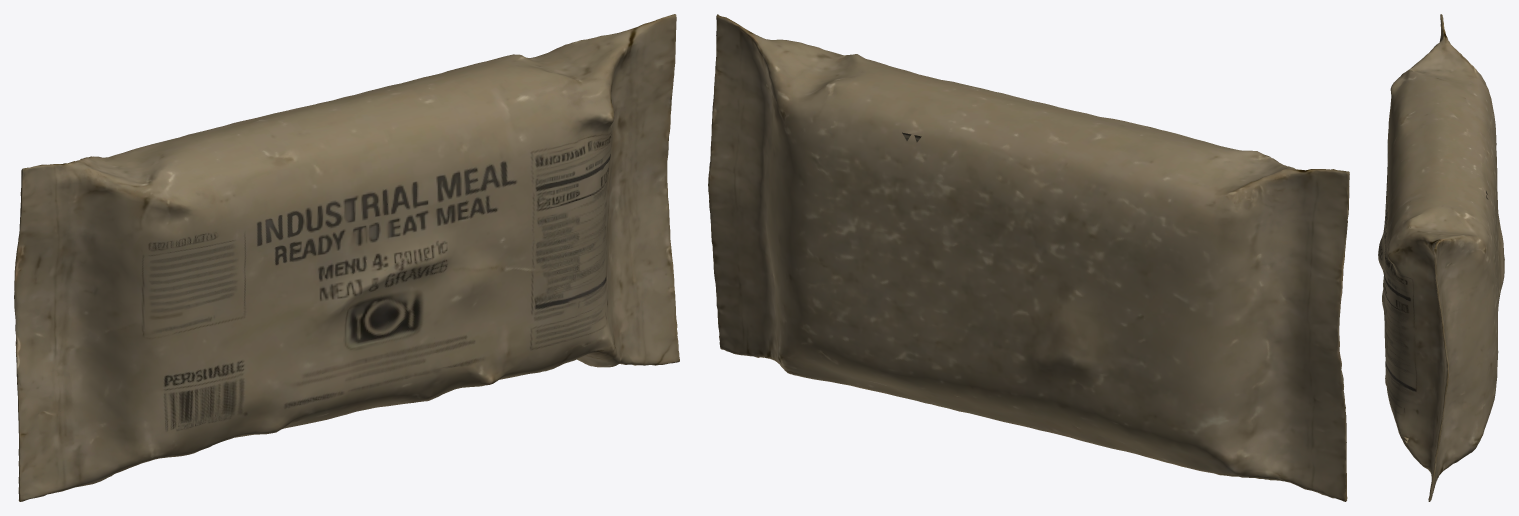
Rendered from ready_meal.glb.
The picture shows the model from 3 angles, left to right: view 1: azimuth 30°, elevation 25°; view 2: azimuth 150°, elevation 25°; view 3: azimuth 270°, elevation 25°; orthographic projection. The views are drawn at different scales.
Visible parts, largest first — view 1: geometry_0; view 2: geometry_0; view 3: geometry_0.
Part boxes in pixels (bbox=[...]): geometry_0: bbox=[14, 14, 679, 501]; geometry_0: bbox=[708, 14, 1349, 501]; geometry_0: bbox=[1378, 14, 1504, 501].
Bounding box in the file's own units: 1 × 0.5088 × 0.2293.
Materials: 1 (1 with a texture image).
